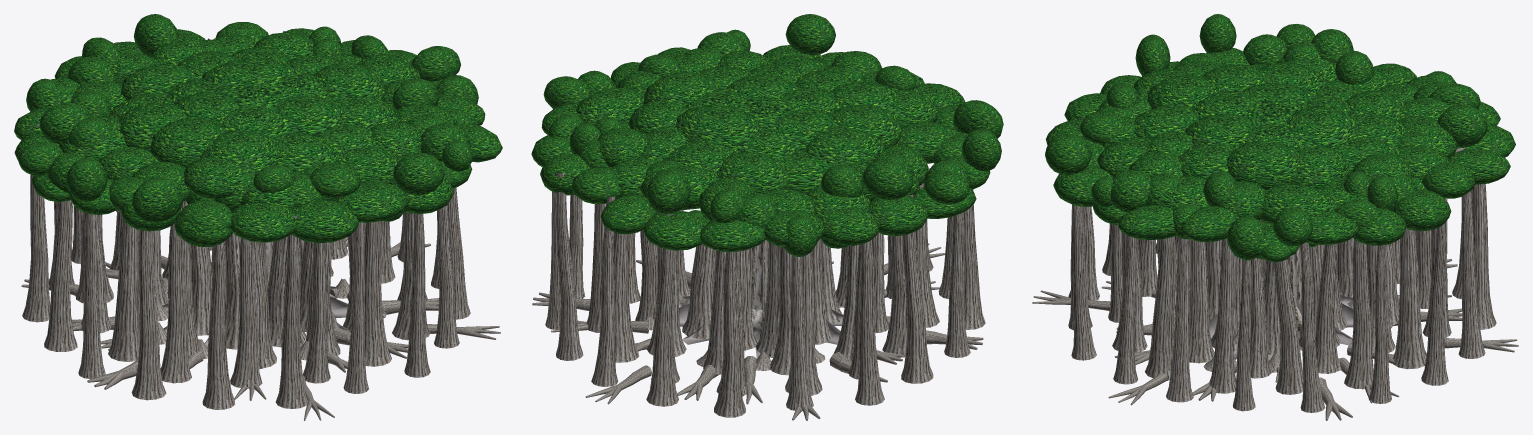
Rendered from banyan-large-textured.glb.
3 views of the same model, side by side, from view 1: azimuth 30°, elevation 25°; view 2: azimuth 150°, elevation 25°; view 3: azimuth 270°, elevation 25° (orthographic). The views are drawn at different scales.
Parts seen in each view (by area): view 1: Mesh_AerialPropRoot_38, Mesh_AerialPropRoot_36, Mesh_AerialPropRoot_24, Mesh_AerialPropRoot_37, Mesh_AerialPropRoot_23, Mesh_AerialPropRoot_40, Mesh_AerialPropRoot_22, Mesh_AerialPropRoot_20, Mesh_AerialPropRoot_39, Mesh_AerialPropRoot_41, Mesh_AerialPropRoot_34, Mesh_AerialPropRoot_35 (+88 smaller); view 2: Mesh_AerialPropRoot_43, Mesh_AerialPropRoot_44, Mesh_AerialPropRoot_40, Mesh_AerialPropRoot_41, Mesh_DenseLeafCluster_006, Mesh_AerialPropRoot_46, Mesh_AerialPropRoot_45, Mesh_AerialPropRoot_42, Mesh_AerialPropRoot_39, Mesh_DenseLeafCluster_013, Mesh_AerialPropRoot_29, Mesh_AerialPropRoot_07 (+90 smaller); view 3: Mesh_AerialPropRoot_29, Mesh_AerialPropRoot_19, Mesh_DenseLeafCluster_007, Mesh_AerialPropRoot_30, Mesh_AerialPropRoot_32, Mesh_AerialPropRoot_18, Mesh_AerialPropRoot_31, Mesh_AerialPropRoot_46, Mesh_AerialPropRoot_45, Mesh_AerialPropRoot_09, Mesh_DenseLeafCluster_006, Mesh_AerialPropRoot_48 (+87 smaller).
Part boxes in pixels (x1,y1,x2,y2): Mesh_AerialPropRoot_38: (131,230,166,400); Mesh_AerialPropRoot_36: (275,215,307,408); Mesh_AerialPropRoot_24: (108,215,139,361); Mesh_AerialPropRoot_37: (202,241,235,409); Mesh_AerialPropRoot_23: (160,201,191,383); Mesh_AerialPropRoot_40: (44,200,77,351); Mesh_AerialPropRoot_22: (230,238,262,388); Mesh_AerialPropRoot_20: (364,221,391,366); Mesh_AerialPropRoot_39: (78,213,105,379); Mesh_AerialPropRoot_41: (22,123,50,322); Mesh_AerialPropRoot_34: (404,214,430,377); Mesh_AerialPropRoot_35: (343,222,368,393); Mesh_AerialPropRoot_43: (714,251,745,417); Mesh_AerialPropRoot_44: (646,213,678,406); Mesh_AerialPropRoot_40: (901,194,933,383); Mesh_AerialPropRoot_41: (855,215,884,405); Mesh_DenseLeafCluster_006: (675,104,759,150); Mesh_AerialPropRoot_46: (556,172,583,360); Mesh_AerialPropRoot_45: (591,196,617,386); Mesh_AerialPropRoot_42: (786,255,813,410); Mesh_AerialPropRoot_39: (944,212,970,357); Mesh_DenseLeafCluster_013: (803,127,886,165); Mesh_AerialPropRoot_29: (613,232,639,362); Mesh_AerialPropRoot_07: (682,244,716,338); Mesh_AerialPropRoot_29: (1393,228,1426,369); Mesh_AerialPropRoot_19: (1145,236,1175,379); Mesh_DenseLeafCluster_007: (1226,141,1300,190); Mesh_AerialPropRoot_30: (1344,239,1373,389); Mesh_AerialPropRoot_32: (1166,237,1193,402); Mesh_AerialPropRoot_18: (1209,238,1236,393); Mesh_AerialPropRoot_31: (1273,259,1303,394); Mesh_AerialPropRoot_46: (1421,199,1448,385); Mesh_AerialPropRoot_45: (1458,169,1485,358); Mesh_AerialPropRoot_09: (1189,239,1214,363); Mesh_DenseLeafCluster_006: (1285,106,1358,148); Mesh_AerialPropRoot_48: (1300,242,1325,412).
Size of the model in its own units: 19.31 by 9.93 by 19.32.
Materials: 2 (2 with a texture image).
